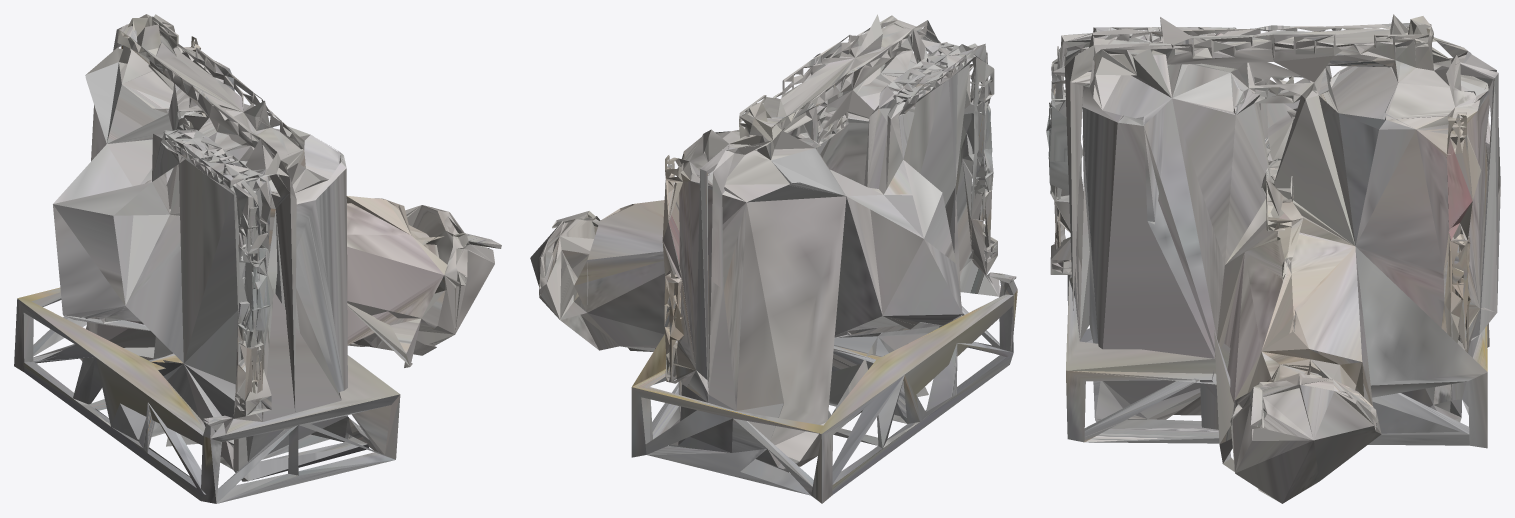
The picture shows the model from 3 angles, left to right: view 1: azimuth 30°, elevation 25°; view 2: azimuth 150°, elevation 25°; view 3: azimuth 270°, elevation 25°; orthographic projection. The views are drawn at different scales.
Parts seen in each view (by area): view 1: k02; view 2: k02; view 3: k02.
Boxes of the visible parts, x1=… form: k02: x1=14, y1=14, x2=501, y2=503; k02: x1=530, y1=14, x2=1017, y2=503; k02: x1=1046, y1=14, x2=1500, y2=503.
Bounding box in the file's own units: 17.11 × 13.74 × 14.8.
Materials: 1 (1 with a texture image).
